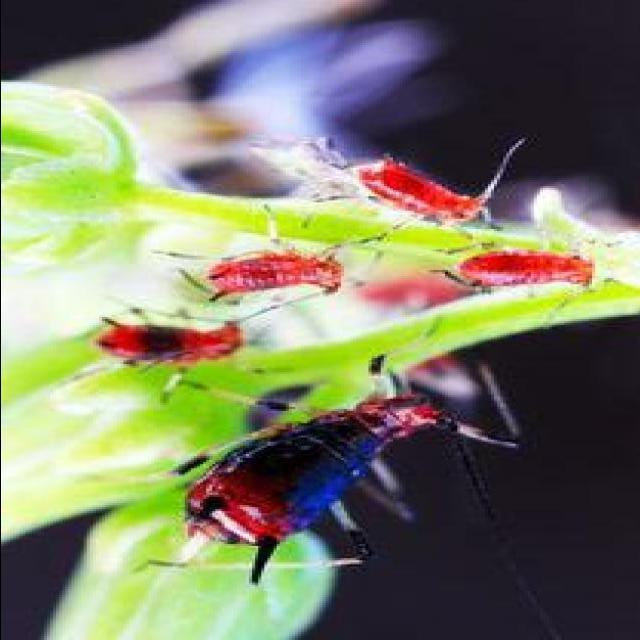aphid: (177, 391, 463, 564), (73, 312, 279, 374), (199, 240, 368, 302), (342, 164, 514, 217), (446, 252, 592, 290)
